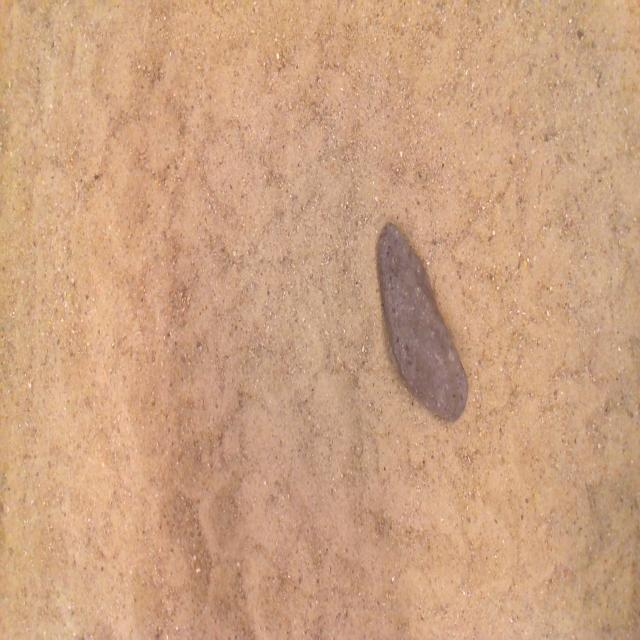rock: (377, 223, 468, 421)
